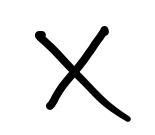mult: (35, 25, 130, 123)
